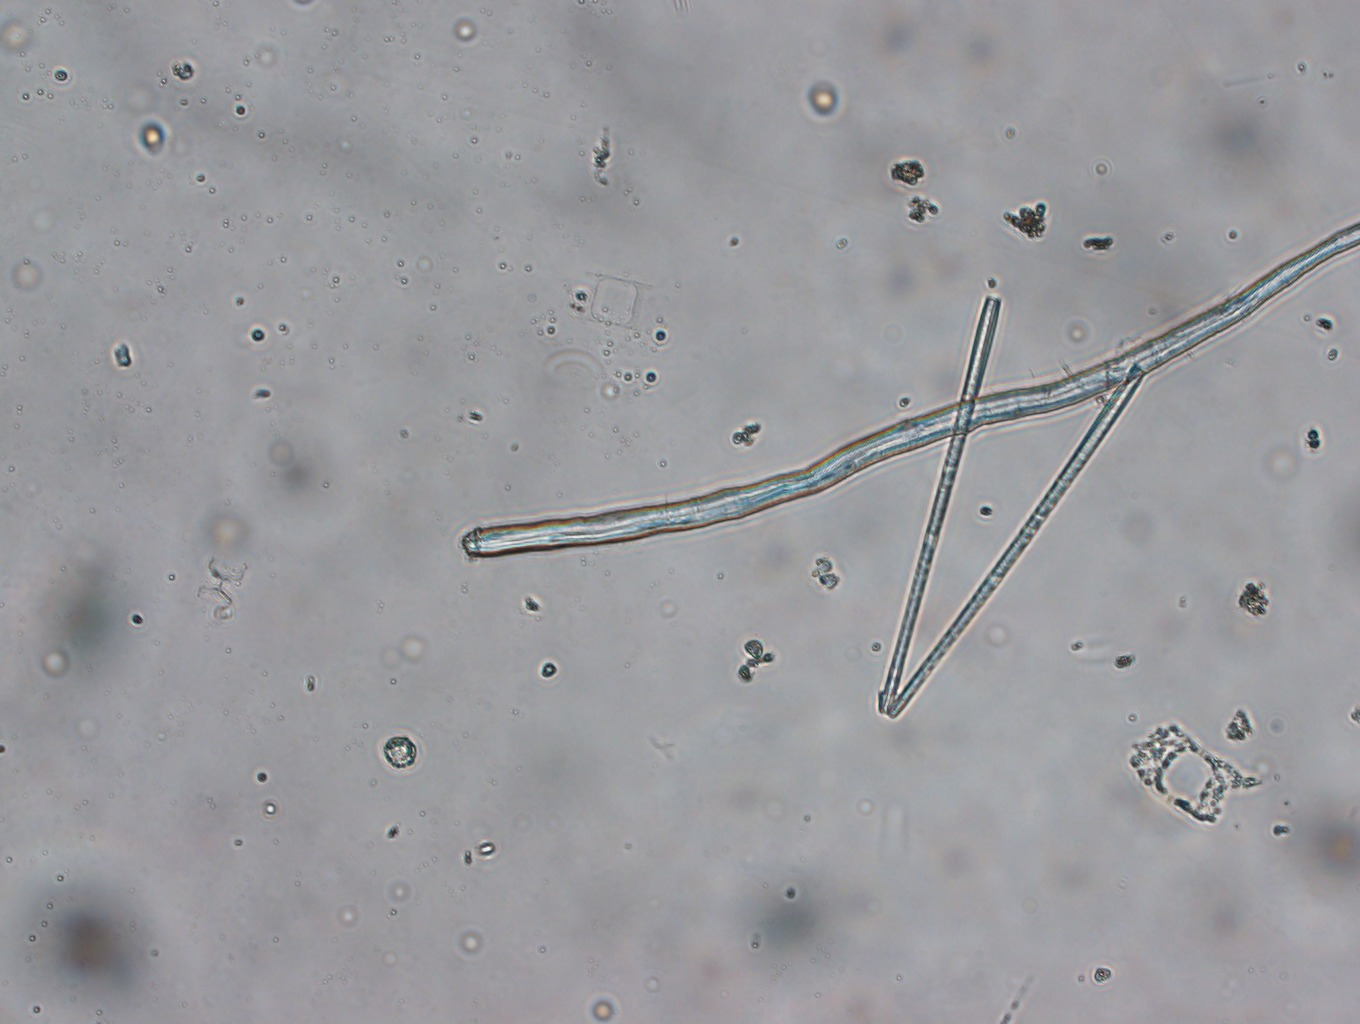thalassionema frauenfeldii: (875, 294, 1157, 739)
